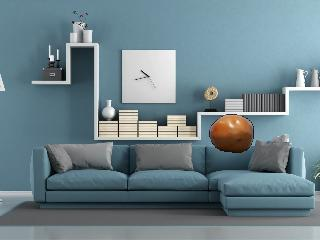potato: (208, 112, 256, 154)
